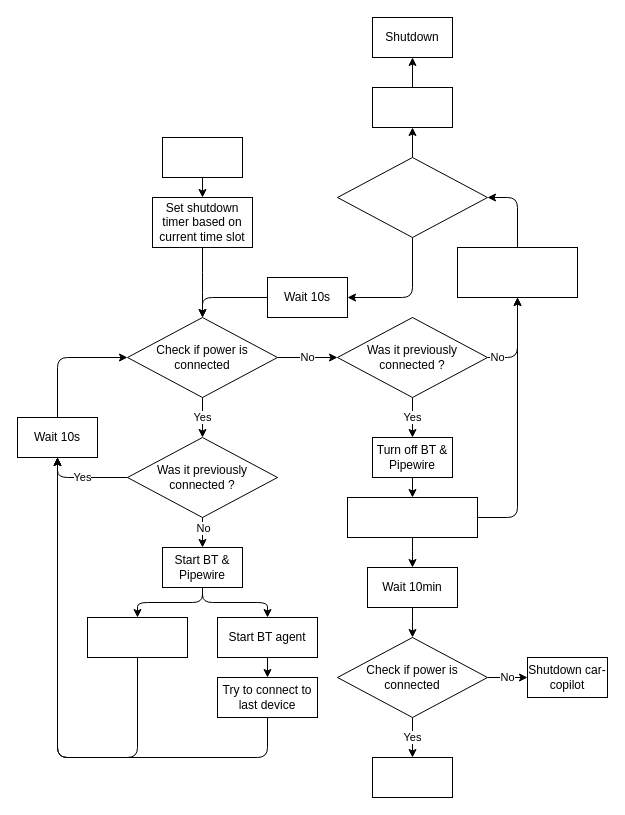
Some shapes in this 625 by 815 pixel diagram are drawn without their labels. Here are the shapes that lost their labels. From the top down, the box of each, then its label:
(372, 86, 452, 128): Set next rtc wake-up
(162, 136, 242, 178): Start
(336, 156, 488, 238): Shutdown timer under 5sec ?
(456, 246, 578, 298): Decrease shutdown timer
(346, 496, 478, 538): Create subroutine to shutdown car-copilot
(86, 616, 188, 658): Start car-copilot
(372, 756, 452, 798): Do nothing
